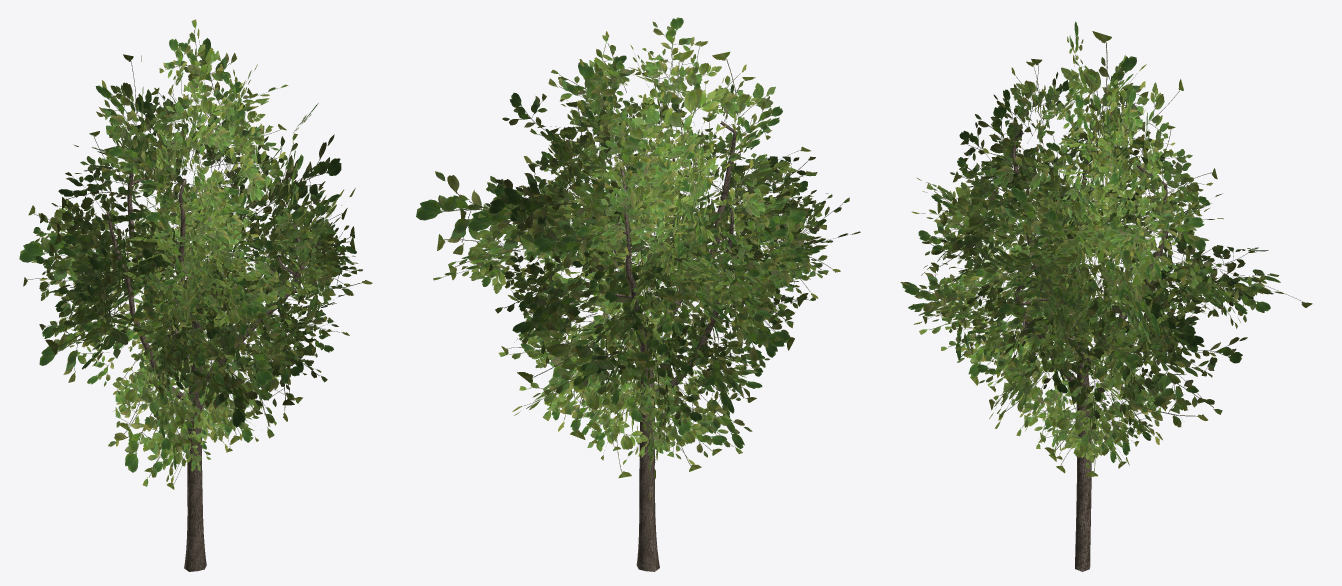
File: tree_pear_v0_l0.glb
The picture shows the model from 3 angles, left to right: view 1: azimuth 30°, elevation 25°; view 2: azimuth 150°, elevation 25°; view 3: azimuth 270°, elevation 25°; orthographic projection. The views are drawn at different scales.
Parts seen in each view (by area): view 1: tree_pear_v0_l0; view 2: tree_pear_v0_l0; view 3: tree_pear_v0_l0.
Boxes of the visible parts, x1,y1,x2,y2 form: tree_pear_v0_l0: (19,19,372,571); tree_pear_v0_l0: (416,17,860,571); tree_pear_v0_l0: (900,21,1312,571).
Bounding box in the file's own units: 6.29 × 9.24 × 6.87.
Materials: 2 (2 with a texture image).
